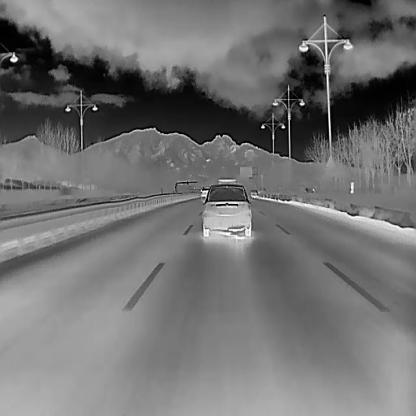car: (201, 183, 251, 236), (199, 184, 210, 202)
